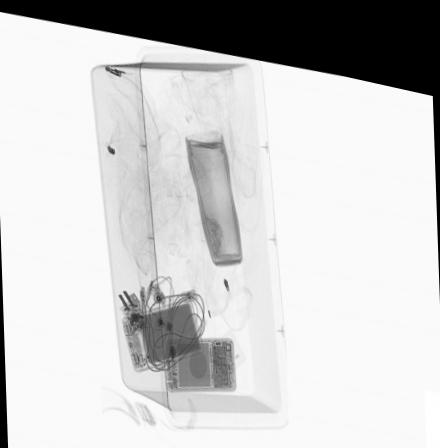Powerbank: (119, 291, 202, 366)
